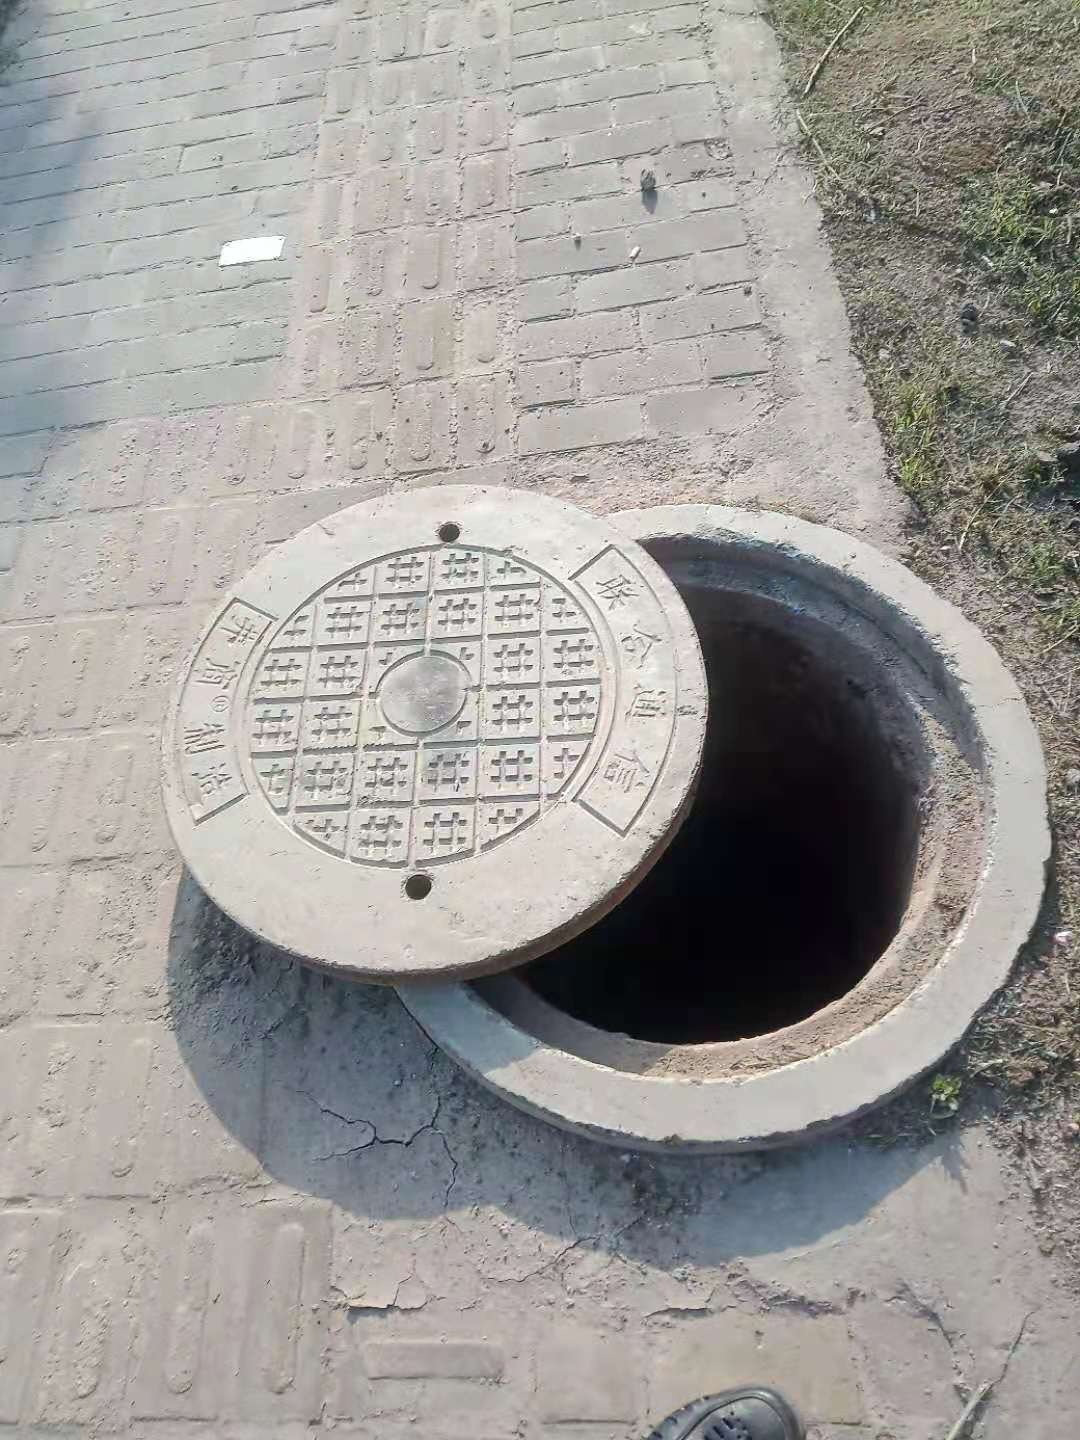uncovered: (166, 480, 1048, 1140)
